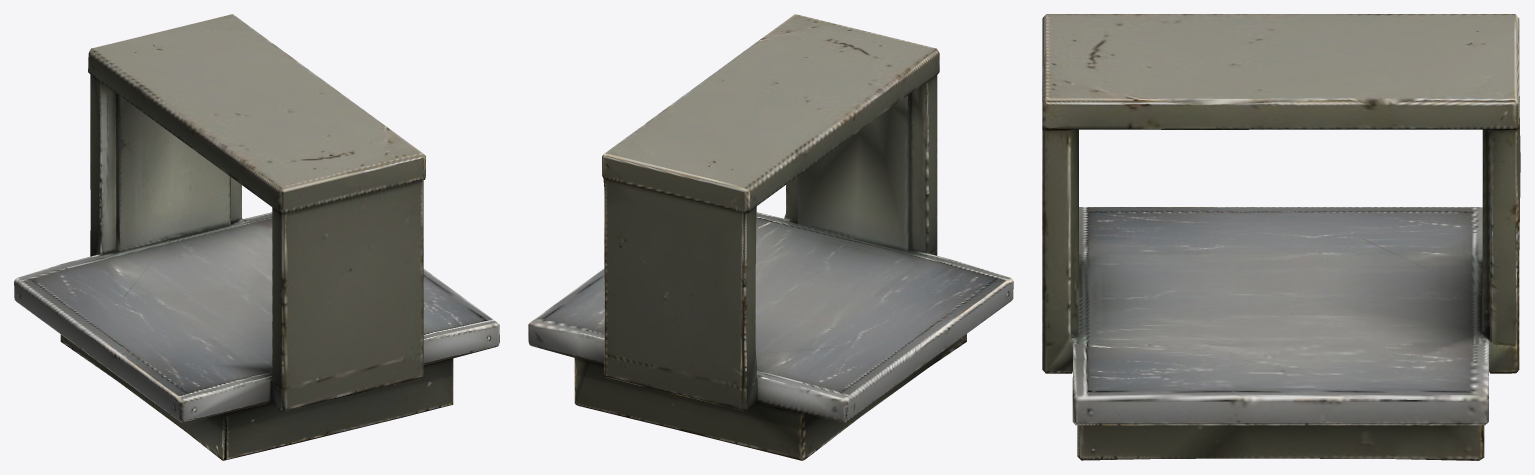
The model's file is tripo_convert_88cf5ee4-2b09-4fa3-b922-e2dcdf0f47ac.fbx.
3 renders of one model, left to right at view 1: azimuth 30°, elevation 25°; view 2: azimuth 150°, elevation 25°; view 3: azimuth 270°, elevation 25°, orthographic. The views are drawn at different scales.
Visible parts, largest first — view 1: tripo_node_88cf5ee4; view 2: tripo_node_88cf5ee4; view 3: tripo_node_88cf5ee4.
Part boxes in pixels (x1,y1,x2,y2): tripo_node_88cf5ee4: [14, 14, 499, 460]; tripo_node_88cf5ee4: [528, 14, 1013, 460]; tripo_node_88cf5ee4: [1042, 14, 1520, 460].
Bounding box in the file's own units: 0.9515 × 0.7775 × 1.
Materials: 1 (1 with a texture image).
